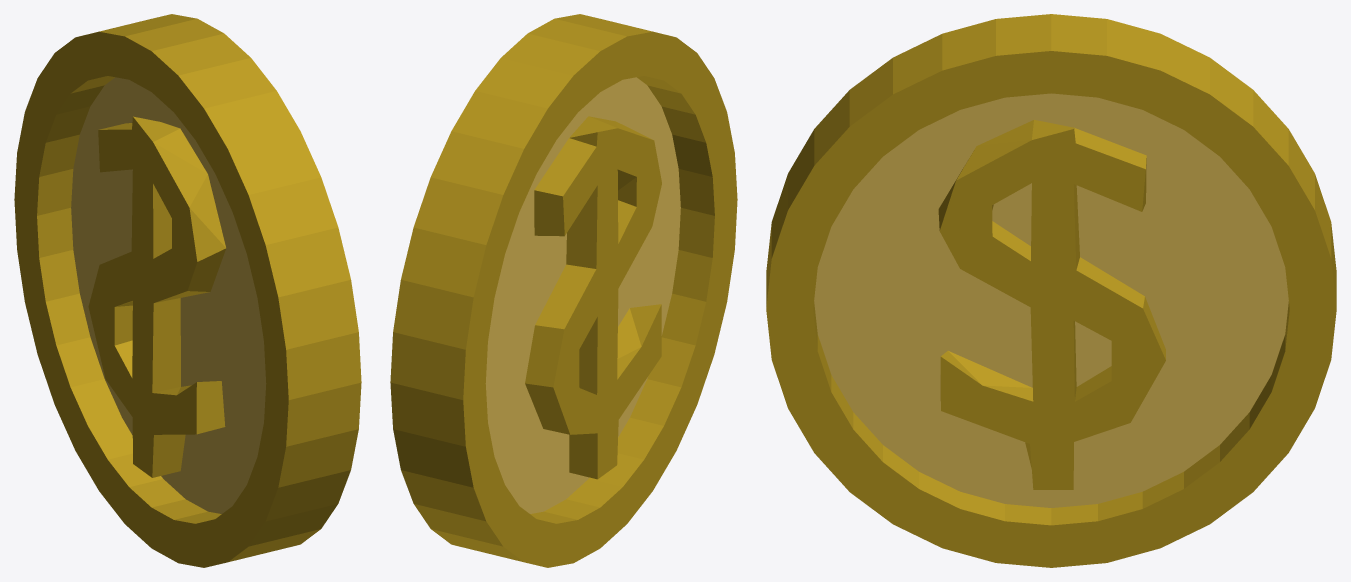
The model's file is coin 1.fbx.
The picture shows the model from 3 angles, left to right: view 1: azimuth 30°, elevation 25°; view 2: azimuth 150°, elevation 25°; view 3: azimuth 270°, elevation 25°; orthographic projection. The views are drawn at different scales.
Visible parts, largest first — view 1: Cylinder; view 2: Cylinder; view 3: Cylinder.
Boxes of the visible parts, x1,y1,x2,y2 form: Cylinder: [14, 14, 361, 567]; Cylinder: [390, 14, 737, 567]; Cylinder: [766, 14, 1336, 567].
Size of the model in its own units: 37.39 by 200 by 200.
